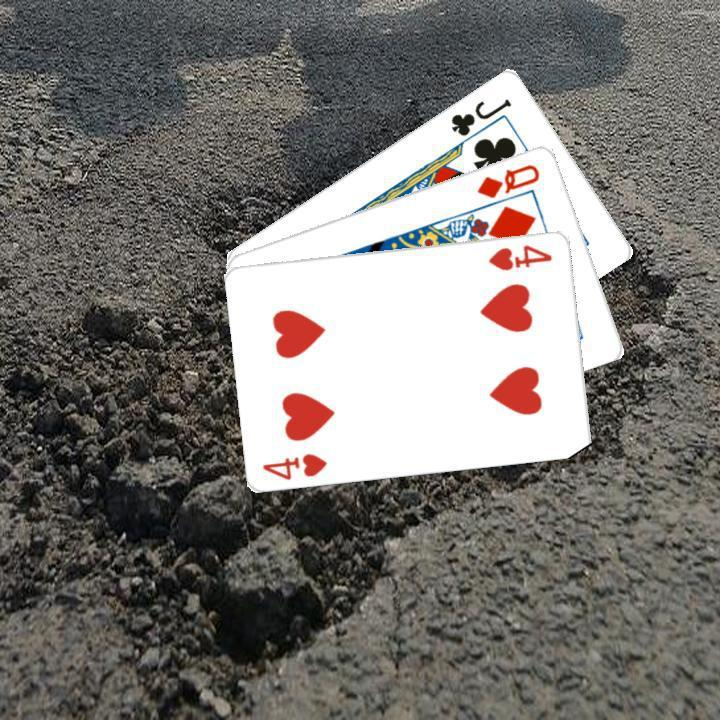4: (259, 448, 329, 481), (485, 239, 554, 272)
J: (446, 93, 514, 138)
Q: (472, 159, 542, 200)
